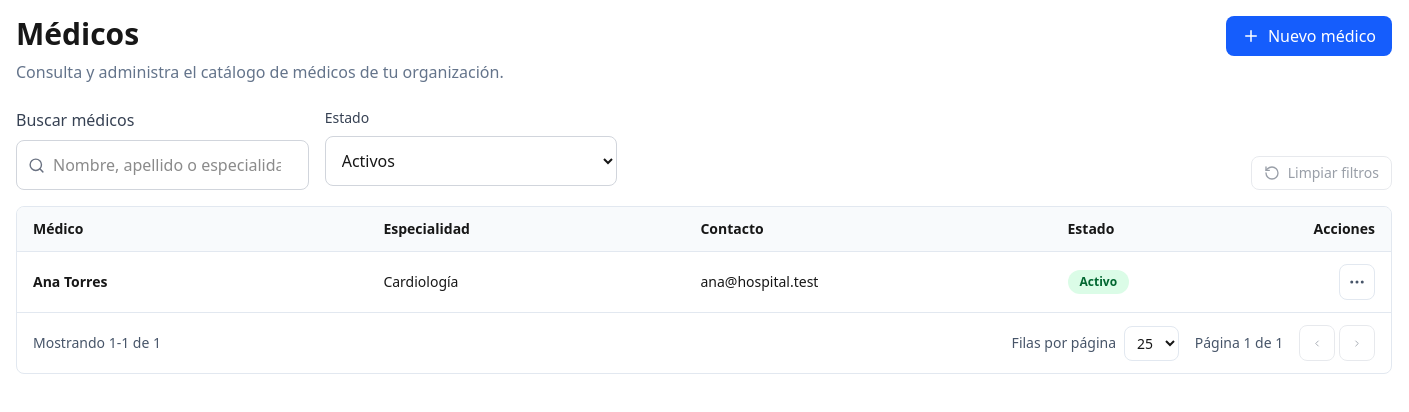
Test: DoctorsPage › permite crear/editar a SALES pero oculta y no dispara lifecycle
The width and height of the screenshot is (1409, 412).
Check: the text "Ana Torres" is shown, box 33,272 -> 107,291
Check: the button "Nuevo médico" is shown, box 1226,16 -> 1392,56
Click the button named "Acciones del médico Ana Torres".
click(1357, 282)  # box 1339,264 -> 1375,300
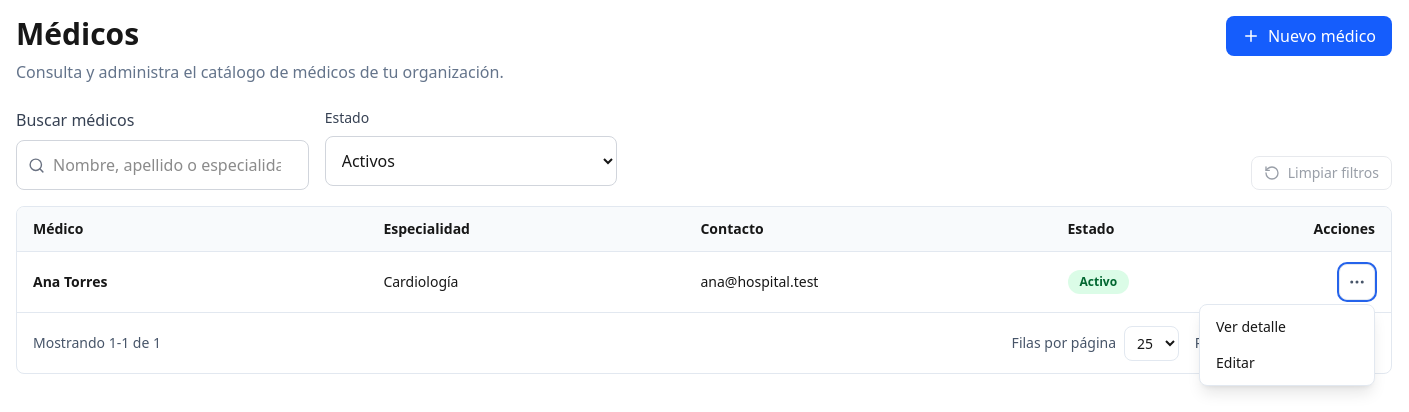
Check: the menu item "Editar" is shown, box 1204,345 -> 1370,381
